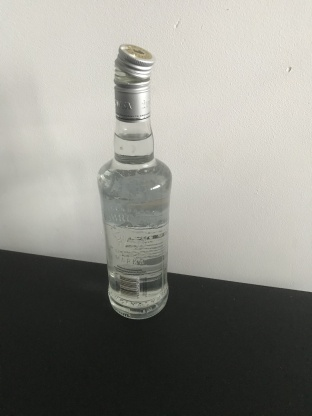nakretka: (112, 41, 155, 123)
